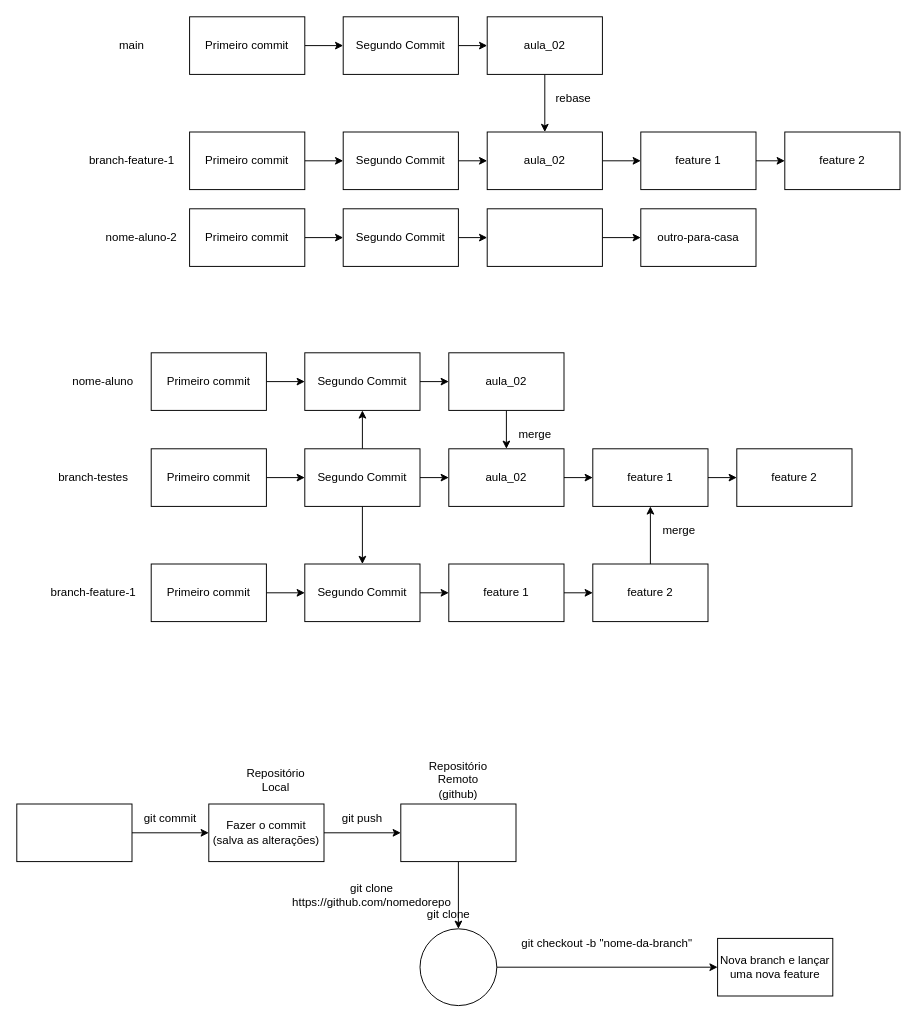
This 917x1022 diagram has some shape labels left out. The box of each missing label's shape, as (x1, y1, x2, y2) in pixels:
Altera o código: (16, 803, 132, 862)
commit-para-casa: (486, 208, 602, 266)
Diogo baixa o código do Github: (419, 928, 497, 1006)
Enviar para o repositório remoto: (400, 803, 516, 862)
